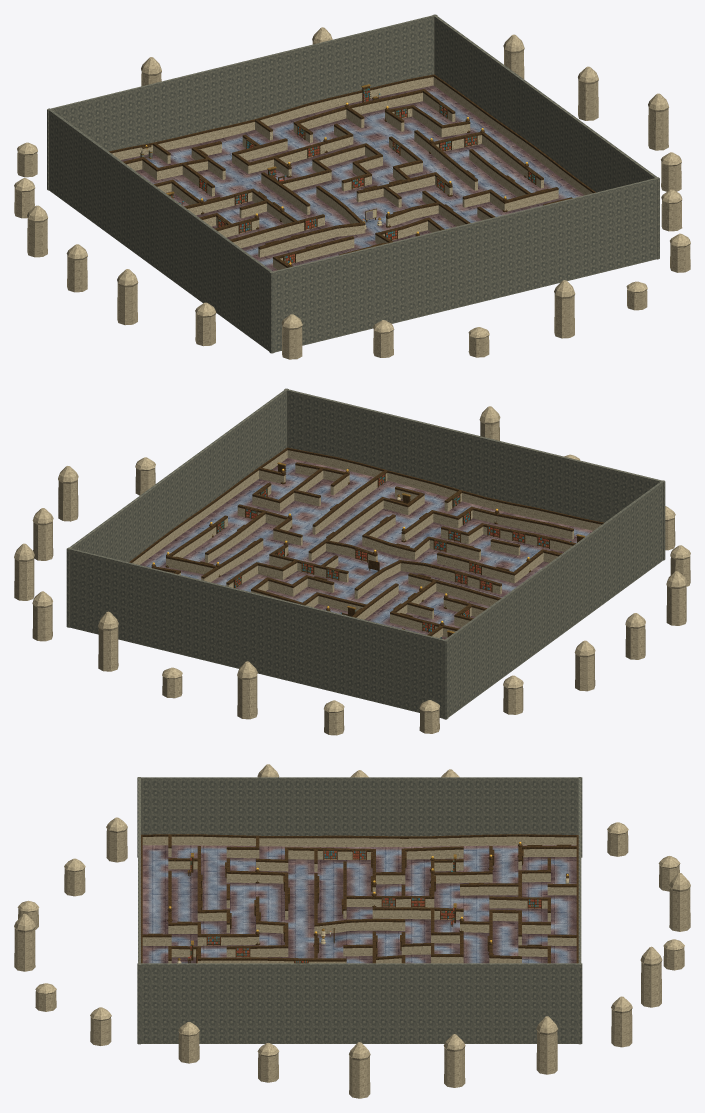
File: VellumWalk-ce4039f49539.glb
3 views of the same model, one above another, from view 1: azimuth 30°, elevation 25°; view 2: azimuth 150°, elevation 25°; view 3: azimuth 270°, elevation 25° (orthographic). The views are drawn at different scales.
Parts seen in each view (by area): view 1: C_Solids, Rim, Terrain, Horizon, Set; view 2: C_Solids, Rim, Terrain, Horizon, Set; view 3: C_Solids, Terrain, Rim, Horizon, Set.
Boxes of the visible parts, box(x1,y1,x2,y2) form: C_Solids: box(47, 14, 659, 353); Rim: box(109, 74, 595, 269); Terrain: box(121, 85, 584, 271); Horizon: box(14, 27, 690, 359); Set: box(140, 84, 548, 267); C_Solids: box(66, 388, 665, 719); Rim: box(129, 447, 604, 638); Terrain: box(140, 458, 592, 639); Horizon: box(14, 406, 690, 735); Set: box(151, 462, 585, 638); C_Solids: box(137, 777, 582, 1044); Terrain: box(142, 845, 576, 963); Rim: box(141, 834, 578, 963); Horizon: box(14, 764, 690, 1098); Set: box(148, 842, 571, 963).
Bounding box in the file's own units: 188 × 24 × 186.
Materials: 15 (15 with a texture image).
